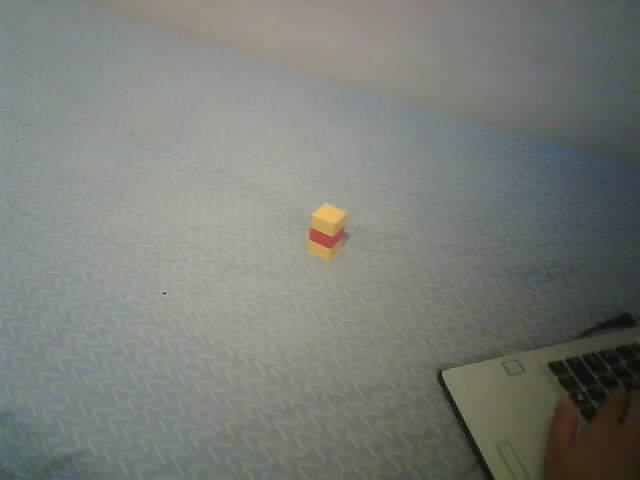lego: (307, 201, 346, 262)
